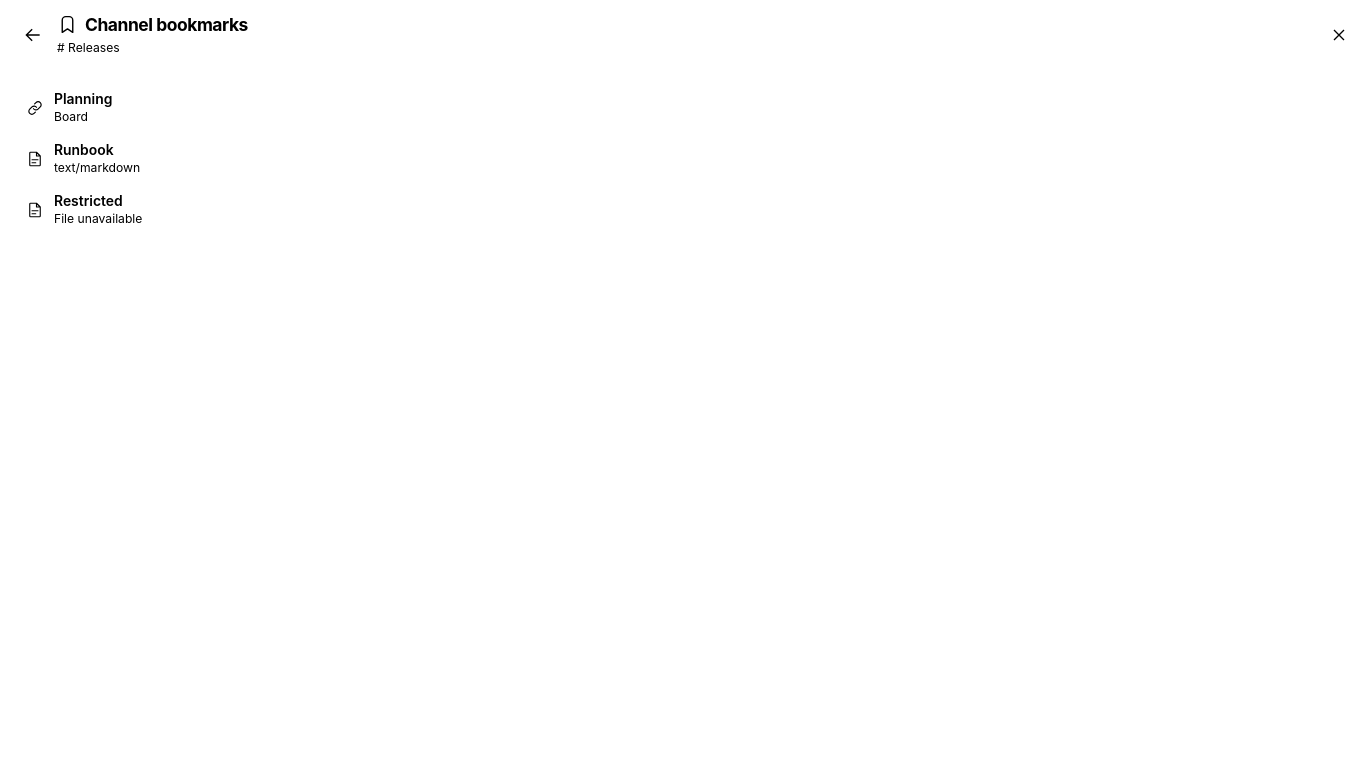
Test case: server ordering, scoped file preview, restricted files and the installation-relative board
Later steps or results of the test are not shown.
Expected: the button "Restricted File unavailable" is disabled, 16,184 -> 1350,235
Expected: the button "Restricted File unavailable" is shown, 16,184 -> 1350,235
Click the button "Runbook text/markdown" at (84, 150), box 16,133 -> 1350,184
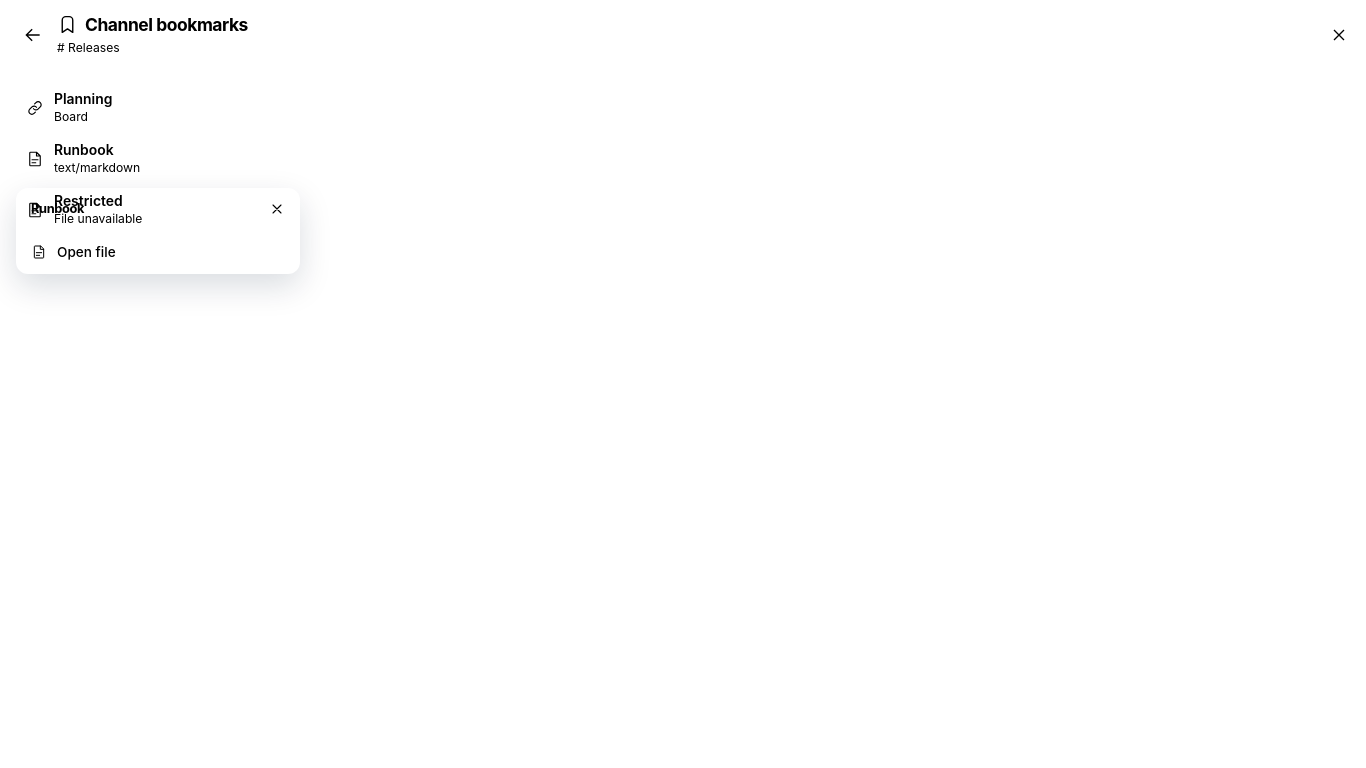
Click the button "Open file" at (86, 252), box 21,234 -> 295,269
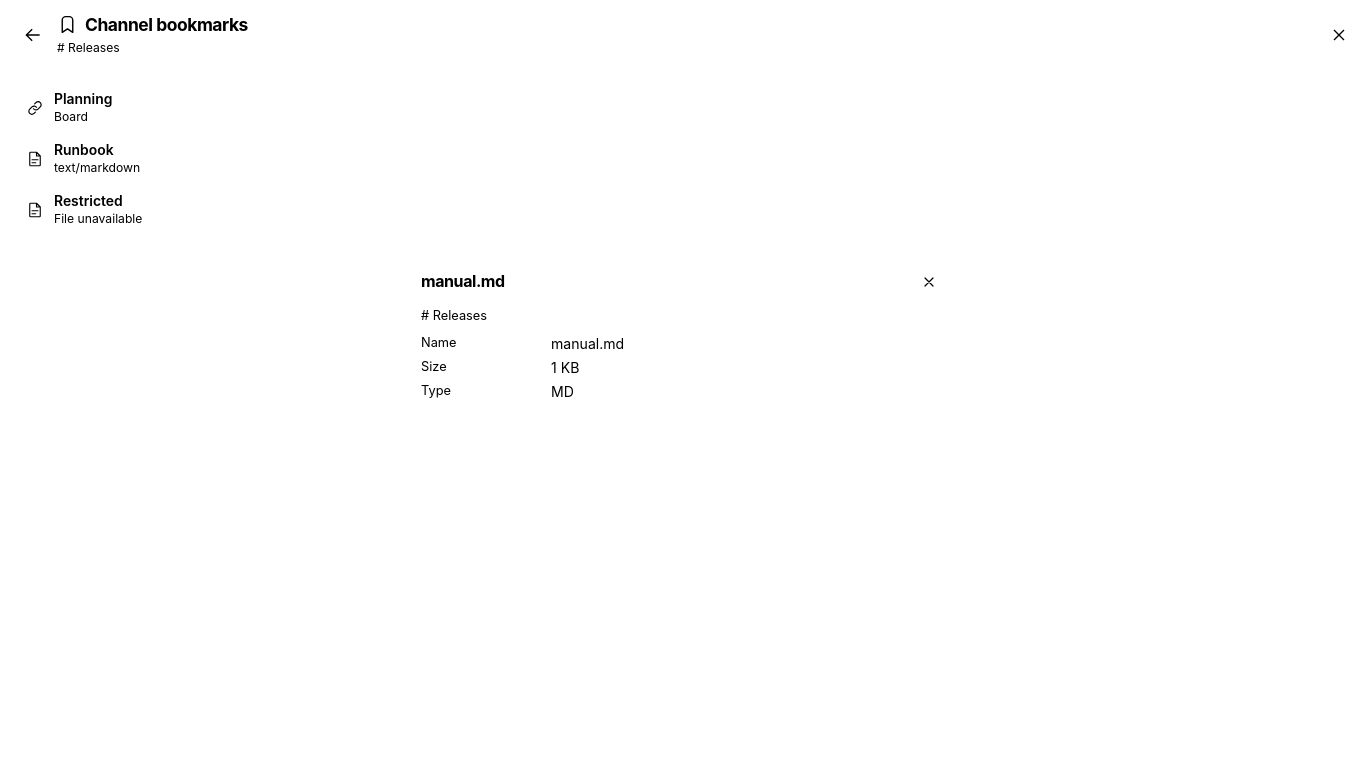
Expected: the button "Runbook text/markdown" is shown, 16,133 -> 1350,184
Expected: the text "MD" is shown, 551,383 -> 574,400
